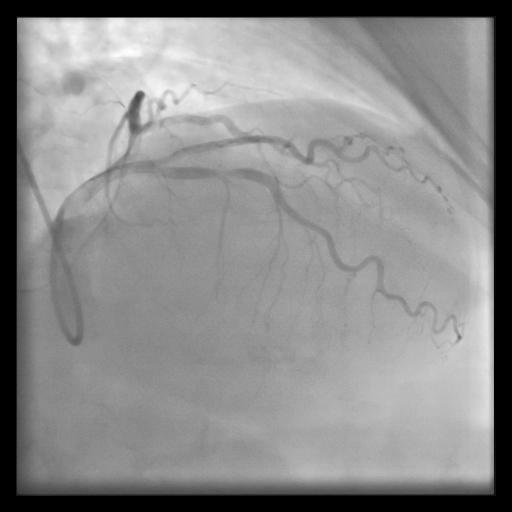Stenosis: (211, 164, 237, 184)
